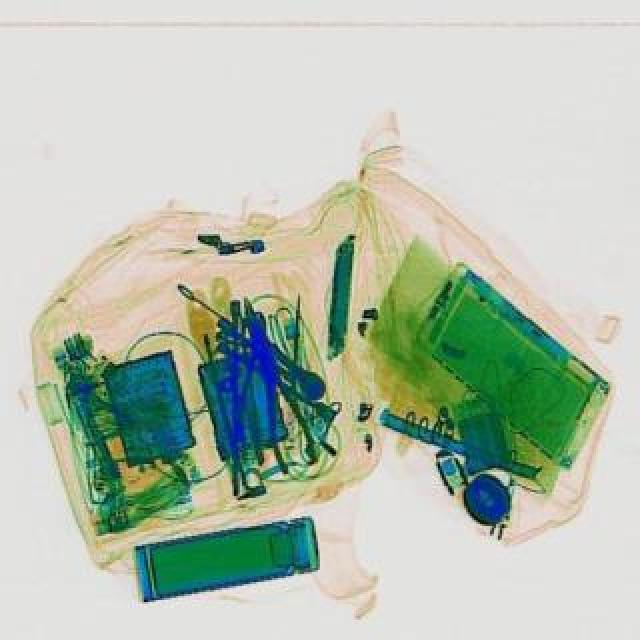wrench: (230, 288, 324, 474), (236, 308, 280, 444)
